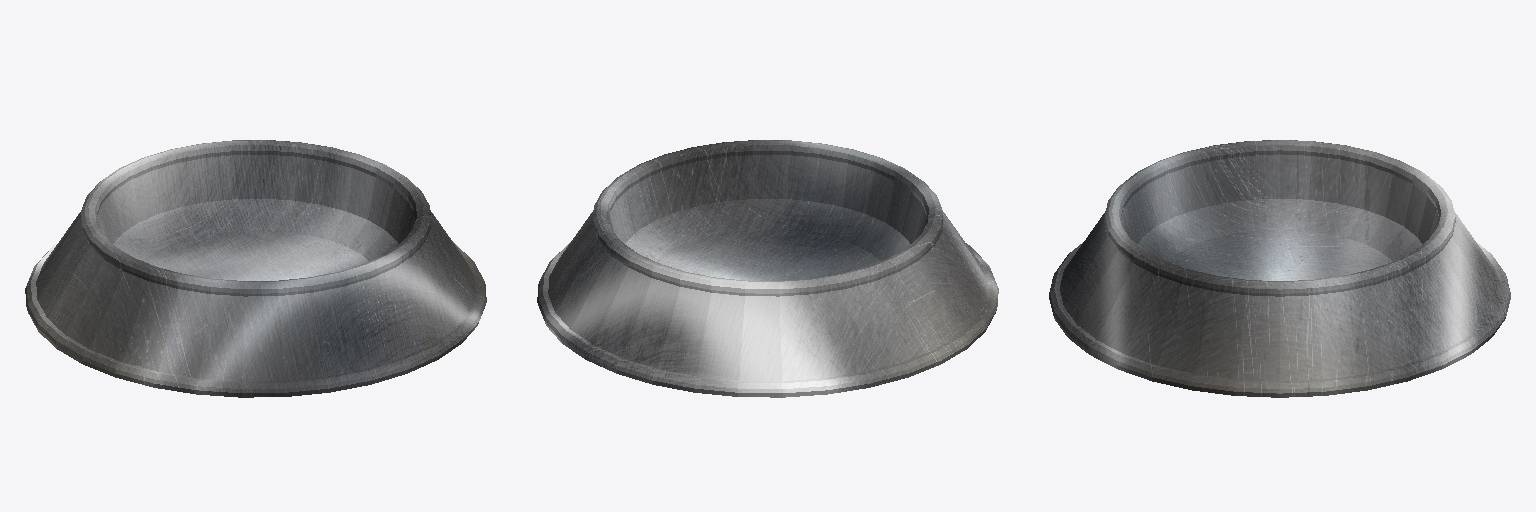
3 views of the same model, side by side, from view 1: azimuth 30°, elevation 25°; view 2: azimuth 150°, elevation 25°; view 3: azimuth 270°, elevation 25° (orthographic).
Visible parts, largest first — view 1: Bowl:Cylinder; view 2: Bowl:Cylinder; view 3: Bowl:Cylinder.
Part boxes in pixels (bbox=[...]): Bowl:Cylinder: bbox=[25, 140, 486, 397]; Bowl:Cylinder: bbox=[537, 140, 998, 397]; Bowl:Cylinder: bbox=[1049, 140, 1510, 397].
Bounding box in the file's own units: 1.72 × 0.3673 × 1.72.
1 materials, 1 textured.